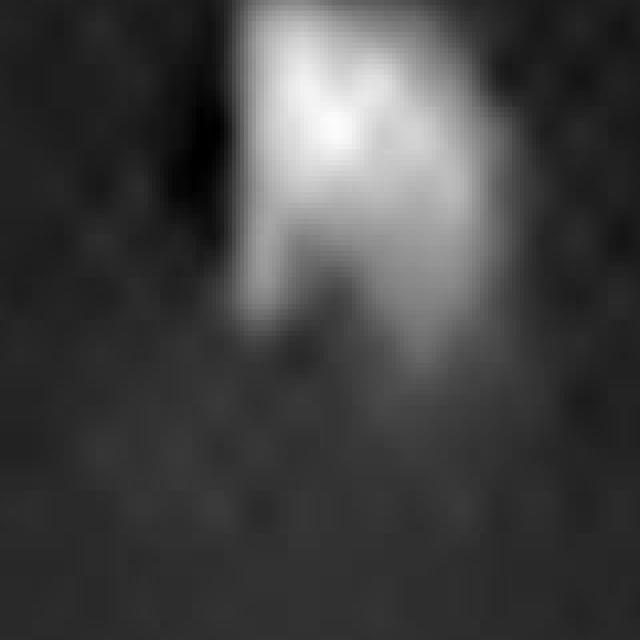person: (205, 1, 505, 470)
